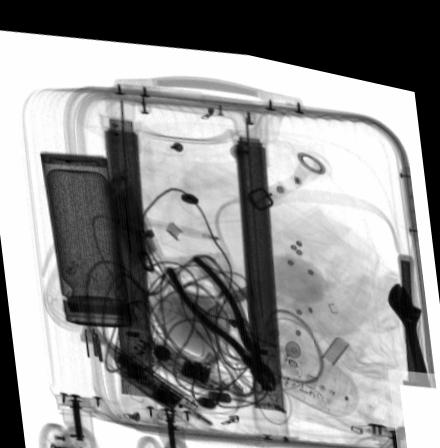Pliers: (166, 245, 276, 378)
Powerbank: (128, 323, 219, 380)
Wrench: (388, 263, 432, 367)
